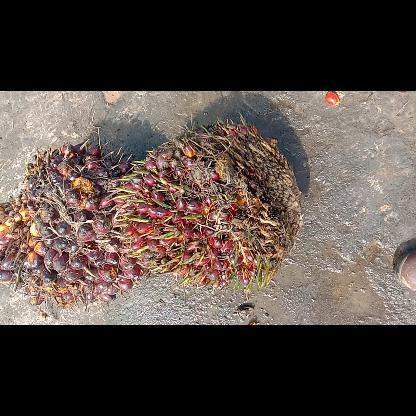Kurang masak: (108, 116, 302, 290)
TBS masak: (0, 138, 142, 308)
